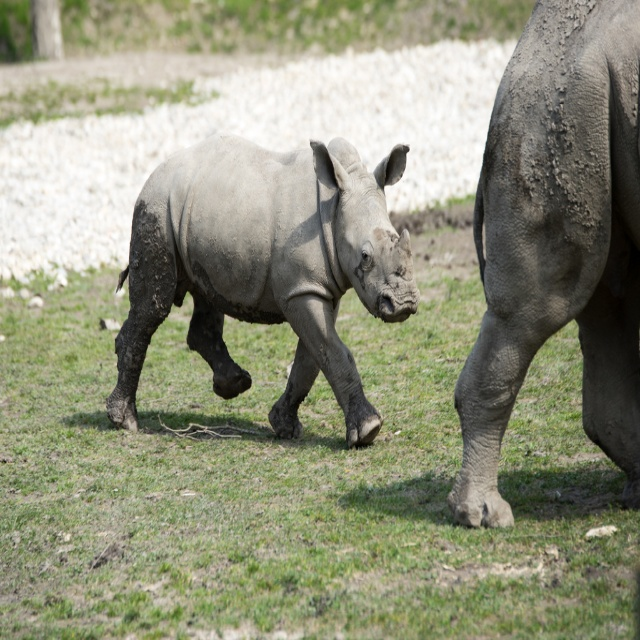Rhinoceros: (105, 134, 422, 451), (453, 0, 640, 529)
